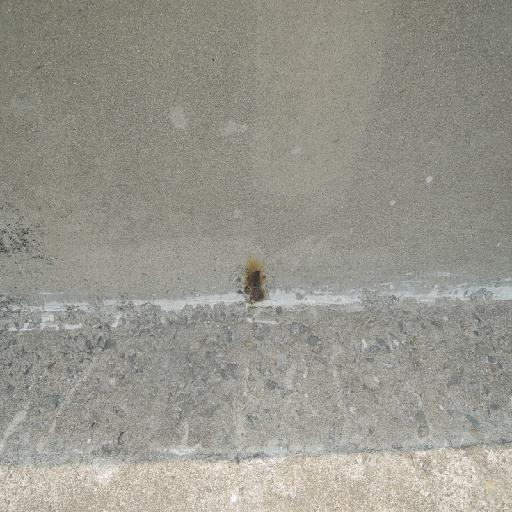exposed_rebar: (244, 258, 265, 302)
